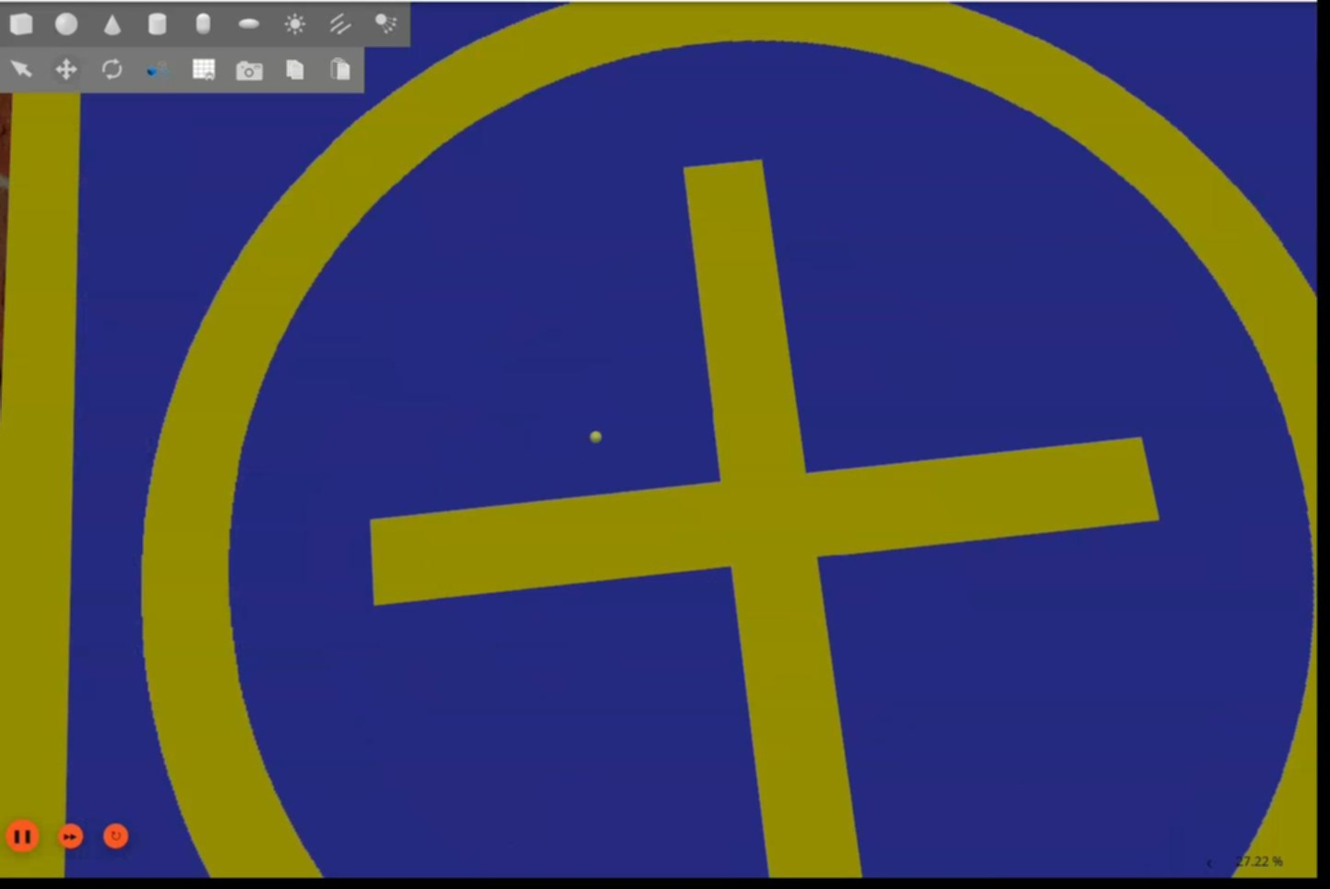small_base: (1, 1, 1317, 879)
